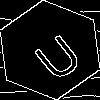U: (25, 25, 86, 84)
